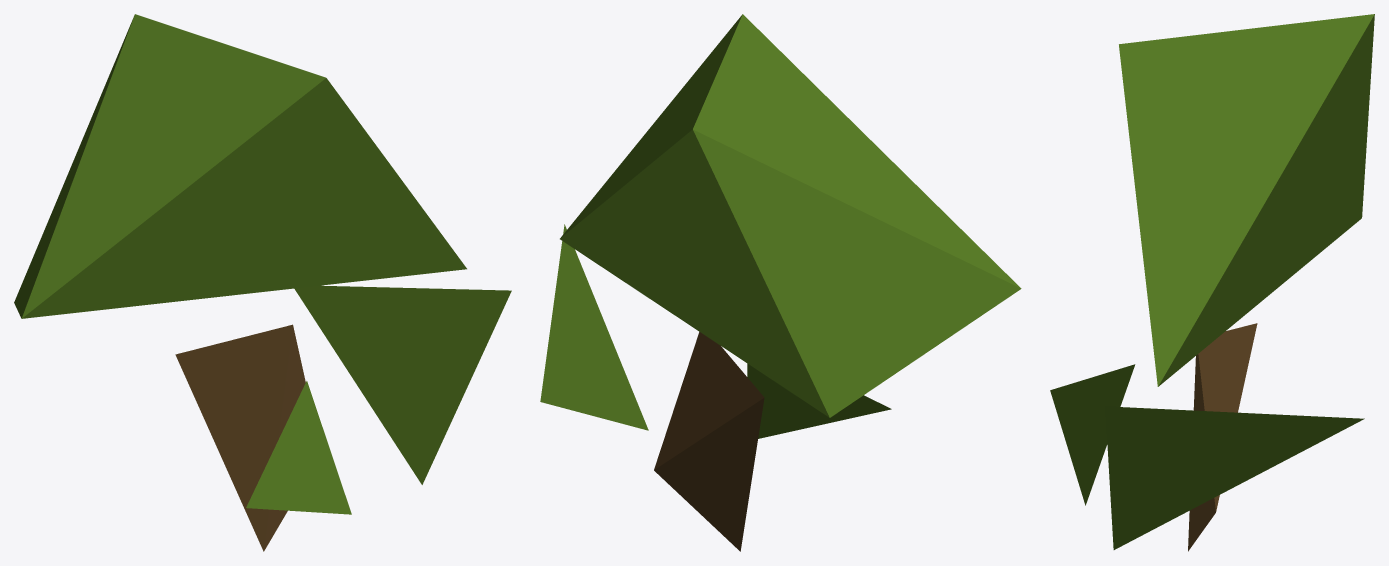
3 renders of one model, left to right at view 1: azimuth 30°, elevation 25°; view 2: azimuth 150°, elevation 25°; view 3: azimuth 270°, elevation 25°, orthographic. The views are drawn at different scales.
Visible parts, largest first — view 1: Tree1_1; view 2: Tree1_1; view 3: Tree1_1.
Boxes of the visible parts, <box> form: Tree1_1: <box>14,14,511,551</box>; Tree1_1: <box>540,14,1021,551</box>; Tree1_1: <box>1050,14,1374,551</box>.
Size of the model in its own units: 5.65 by 5.68 by 3.19.
